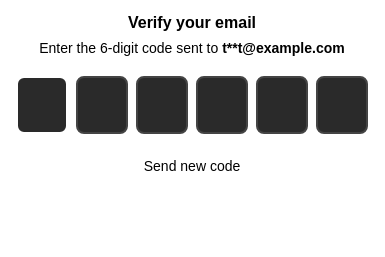
Test: EmailVerification › shows code_expired error
The width and height of the screenshot is (385, 257).
Type "0" into the field named "Digit 1". click: (42,105)
box: [16,76,68,134]
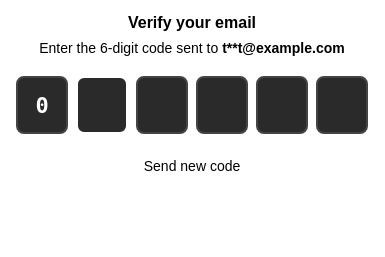
Type "0" into the field named "Digit 2". click: (102,105)
box: [76,76,128,134]
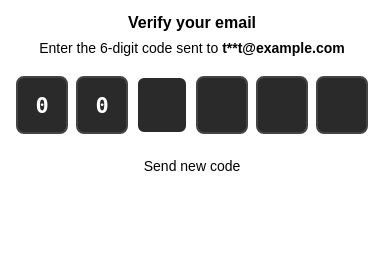
Type "0" into the field named "Digit 3". click: (162,105)
box: [136,76,188,134]
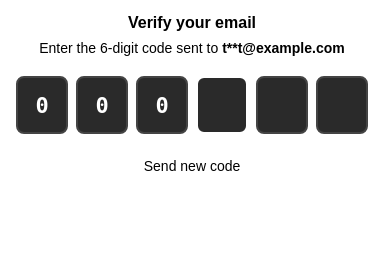
Type "0" into the field named "Digit 4". click: (222,105)
box: [196,76,248,134]
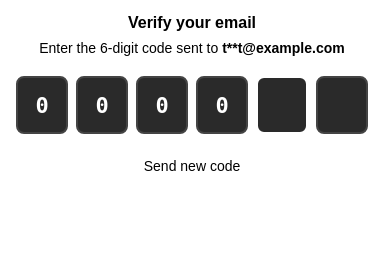
Type "0" into the field named "Digit 5". click: (282,105)
box: [256,76,308,134]
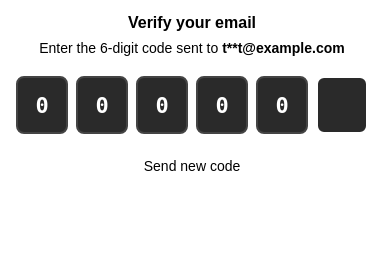
Type "0" into the field named "Digit 6". click: (342,105)
box: [316,76,368,134]
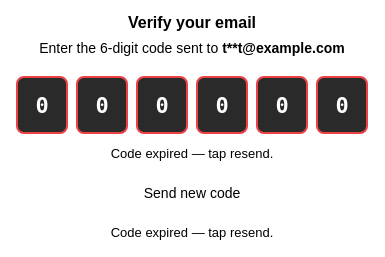
Result: the text "Code expired — tap resend." is shown 2 times at [111,146,273,161]; [111,225,273,240]
